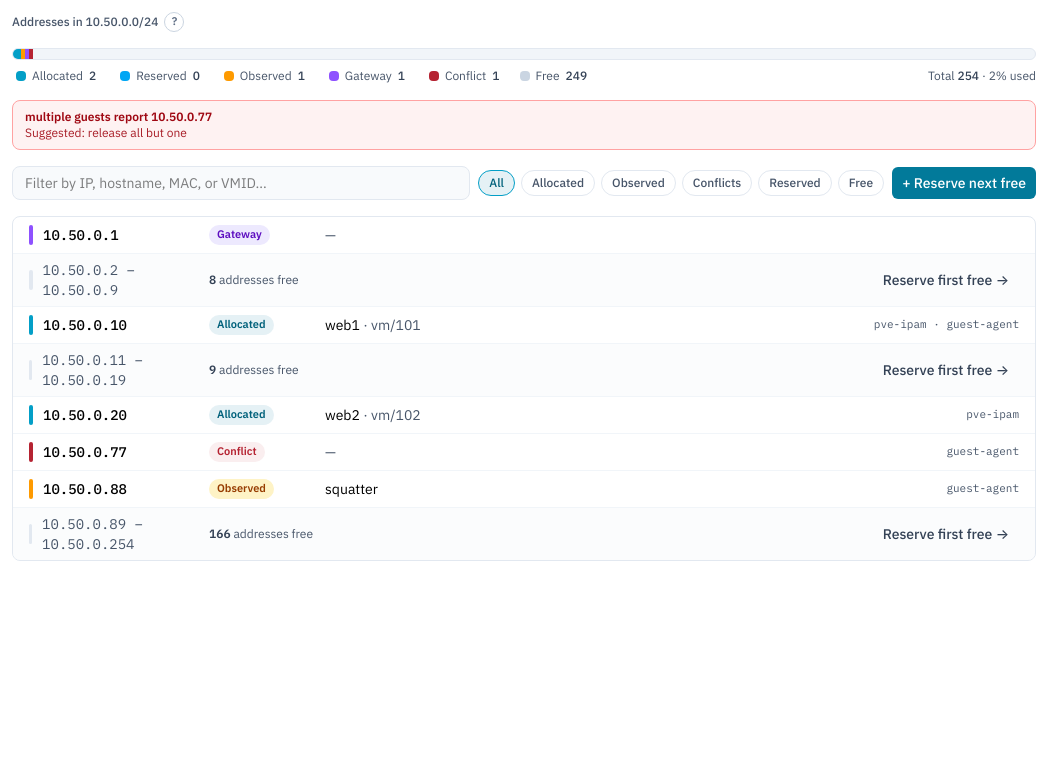
Test case: AddressList › filters the list to a single state via the filter chips
expect the button with aria-label "10.50.0.10: Allocated" is shown: met, box x1=13 y1=307 x2=1035 y2=344
What coordinates should you click on to do the following:
click the button "Observed"
I would click on:
 (638, 183)
Its box is x1=601 y1=170 x2=676 y2=196.
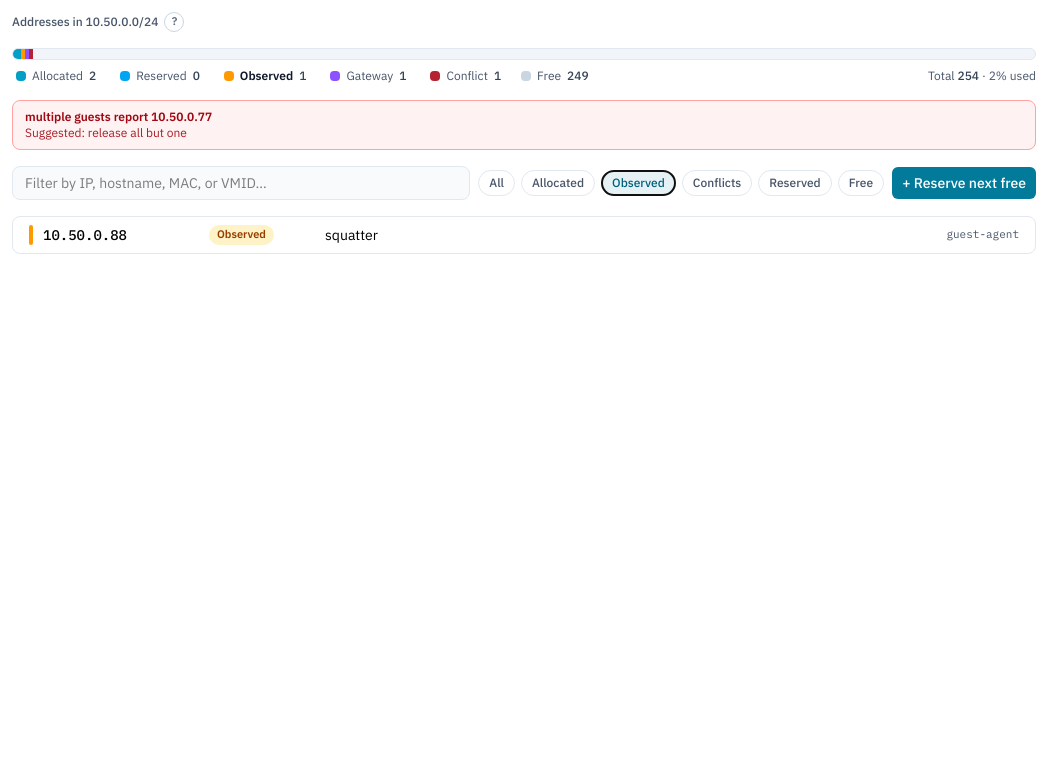
expect the button with aria-label "10.50.0.88: Observed (unallocated)" is shown: met, box x1=13 y1=217 x2=1035 y2=253
expect the text "10.50.0.2 – 10.50.0.9" is gone: met
